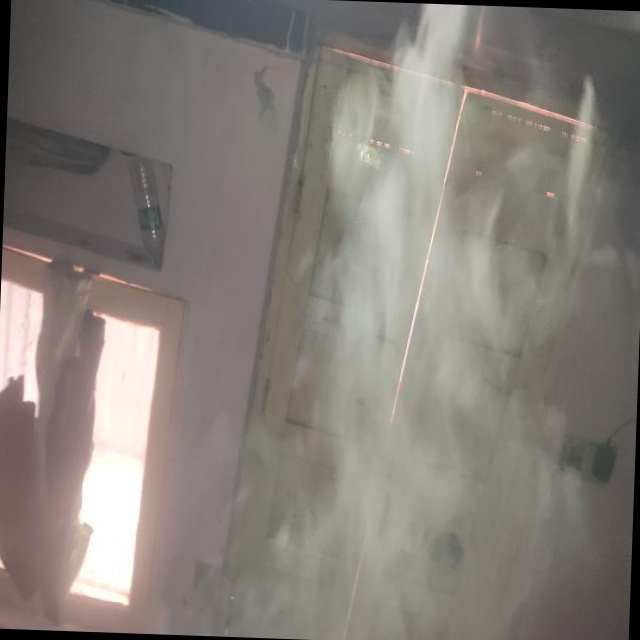smoke: (334, 37, 598, 492)
